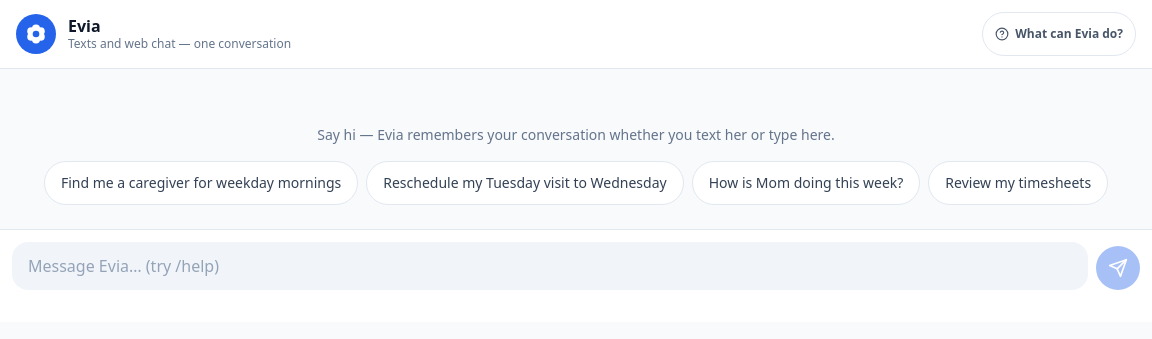
it: CaraChat › smsFlowActive removes the optimistic bubble, restores the draft, and shows the deferral reply as a notice
Type "who is on friday?" into the text box labelled "Message Evia" at (550, 266), box top-left (12, 242), bottom-right (1088, 290)
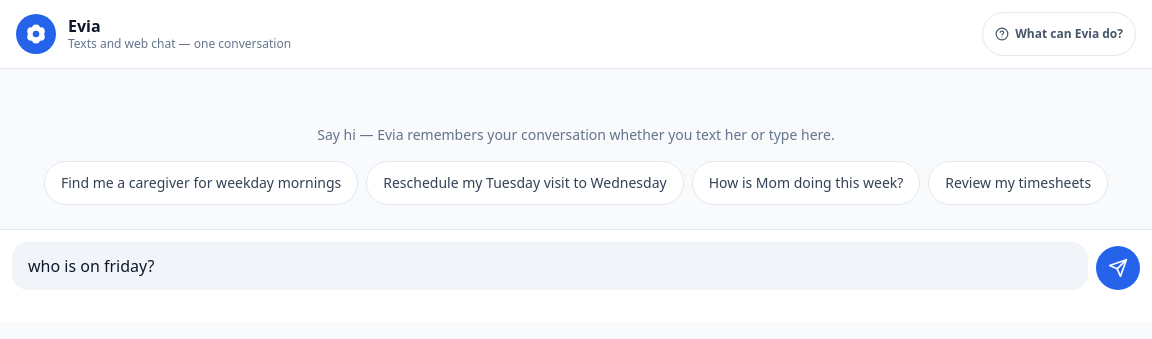
Click the button named "Send message" at (1118, 268), box top-left (1096, 246), bottom-right (1140, 290)
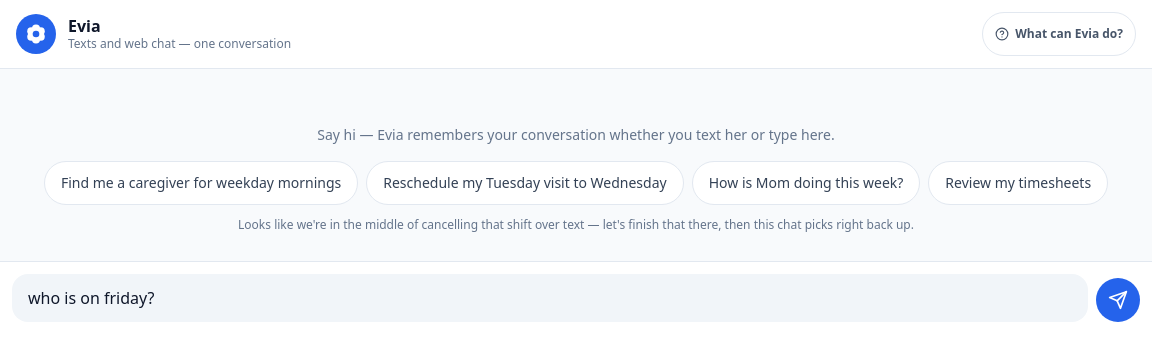
Expected: the text "who is on friday?" is not shown
Now the text "cancelling that shift over text" is shown, box top-left (238, 216), bottom-right (914, 233)
